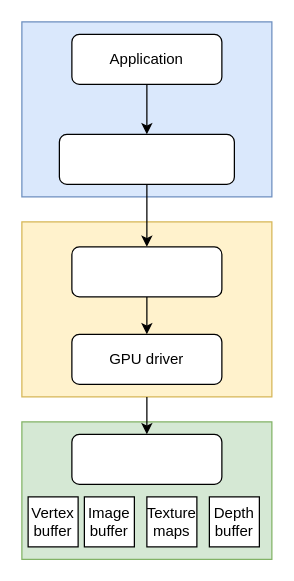
The diagram is 294 pixels wide and 581 high, and some of its shapes have lost their labels. The box of each missing label's shape, as (x1, y1, x2, y2) in pixels:
Common OpenGL native library: (71, 246, 222, 297)
GPU: (71, 433, 222, 484)
OpenGL API wrapper for Java(LWJGL): (58, 133, 234, 184)
